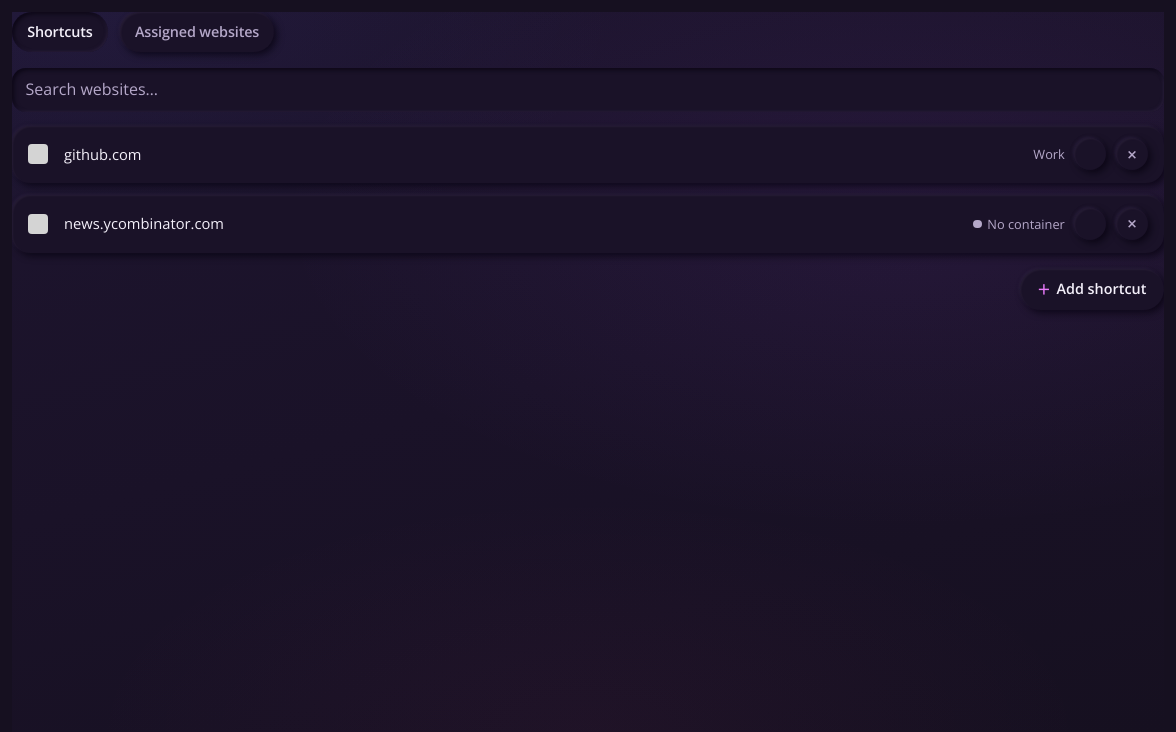
Scenario: SitesPanel › filters rows by search query
Type "zzz" into the search field with placeholder "Search websites…". click: (588, 90)
box: [12,68,1164,112]
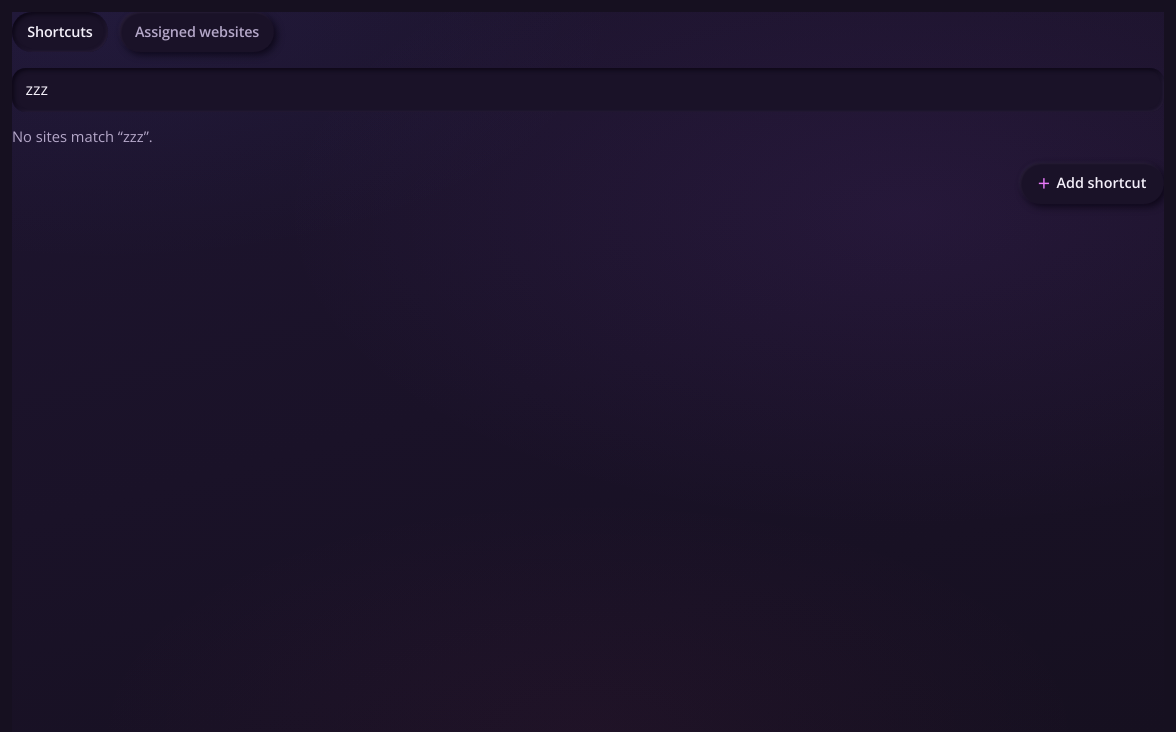
Expected: the text "No sites match" is shown, [12,126,123,146]
